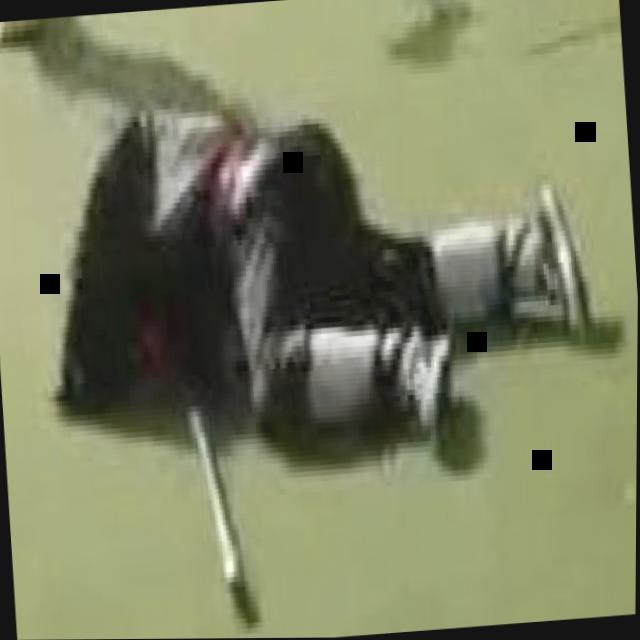Fall-Detected: (29, 6, 640, 500)
